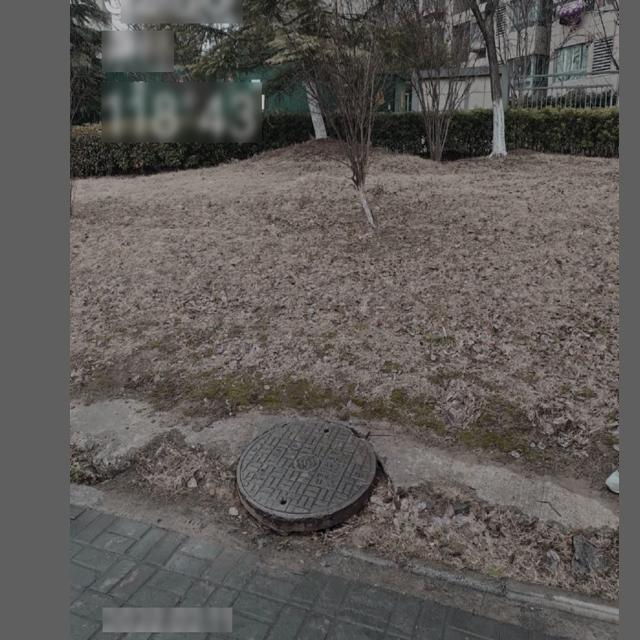circle: (233, 414, 383, 531)
